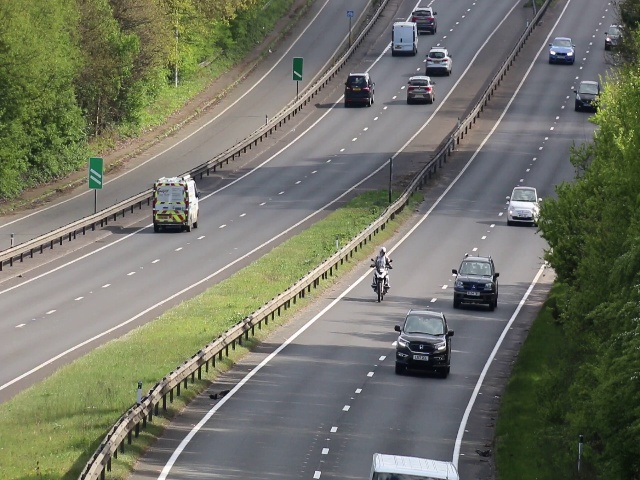car: (396, 308, 451, 379), (150, 174, 200, 235), (450, 253, 501, 308), (504, 183, 539, 226), (343, 72, 375, 108), (389, 20, 419, 56), (546, 33, 577, 67), (404, 73, 436, 105), (425, 46, 455, 75), (574, 81, 602, 110), (411, 7, 437, 36), (601, 26, 621, 53)
